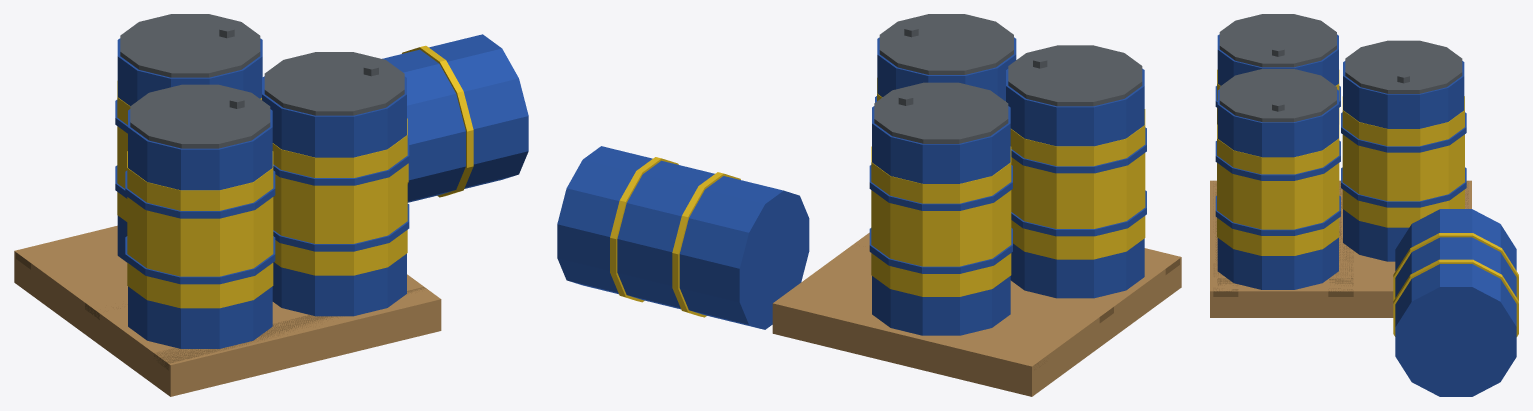
The model's file is barrels.glb.
The picture shows the model from 3 angles, left to right: view 1: azimuth 30°, elevation 25°; view 2: azimuth 150°, elevation 25°; view 3: azimuth 270°, elevation 25°; orthographic projection. The views are drawn at different scales.
Parts seen in each view (by area): view 1: Barrels; view 2: Barrels; view 3: Barrels.
Boxes of the visible parts, bbox=[...] form: Barrels: bbox=[14, 14, 528, 396]; Barrels: bbox=[557, 14, 1181, 396]; Barrels: bbox=[1210, 14, 1518, 396].
Bounding box in the file's own units: 2.17 × 1.07 × 1.47.
